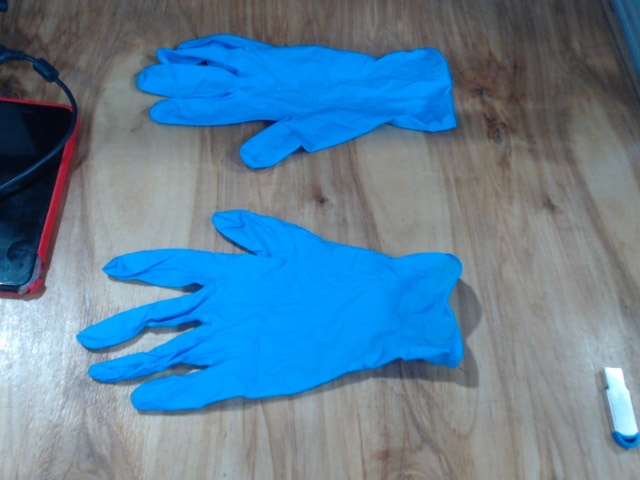medical_glove: (76, 209, 462, 410), (136, 32, 457, 165)
